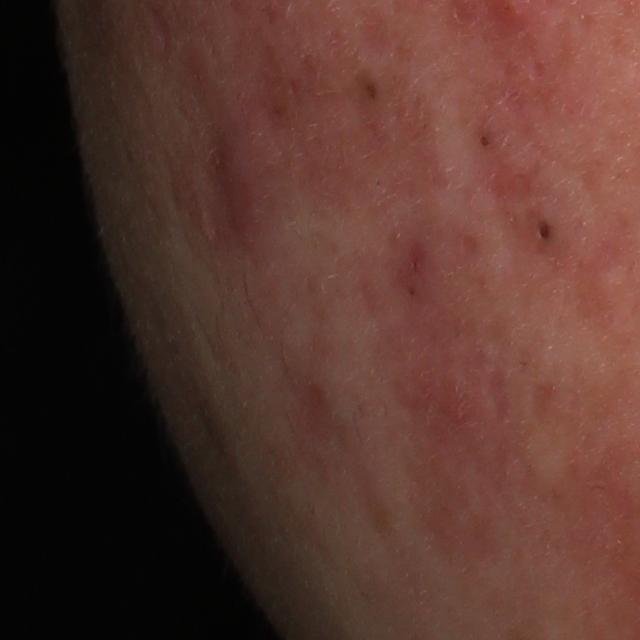comedo: (535, 220, 554, 245), (477, 128, 495, 149)
nodule: (209, 109, 278, 276)
